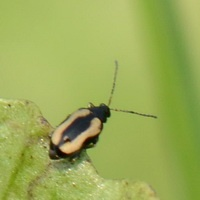insect: (49, 60, 156, 158)
